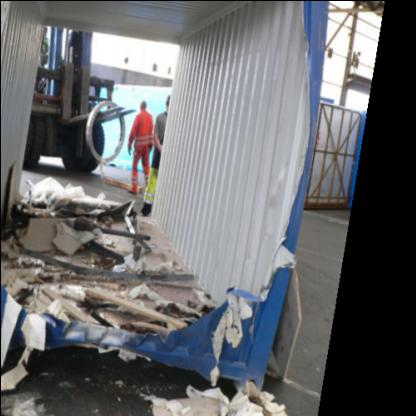Damage: (1, 8, 331, 402)
